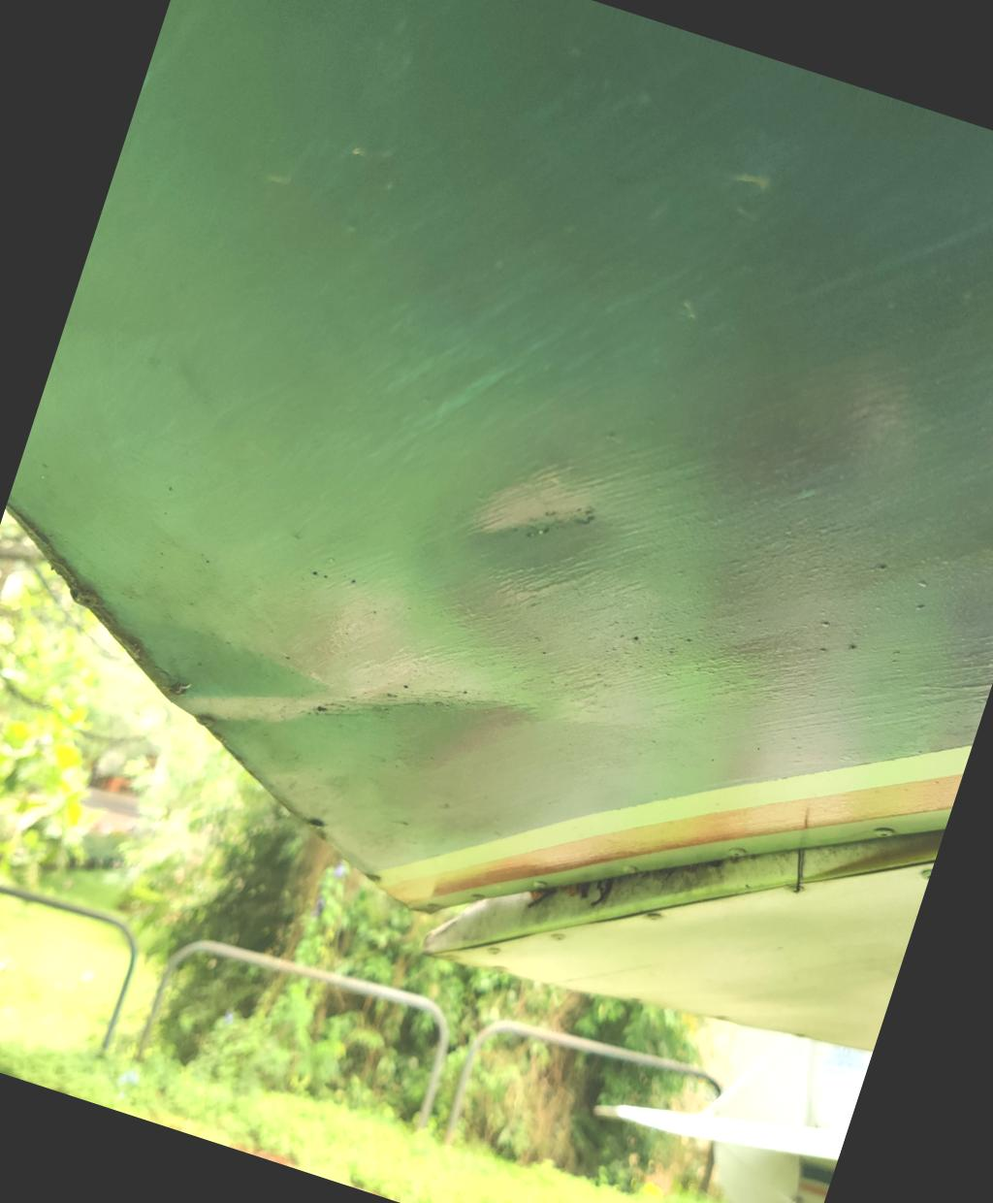dent: (95, 490, 610, 924), (423, 397, 646, 623)
